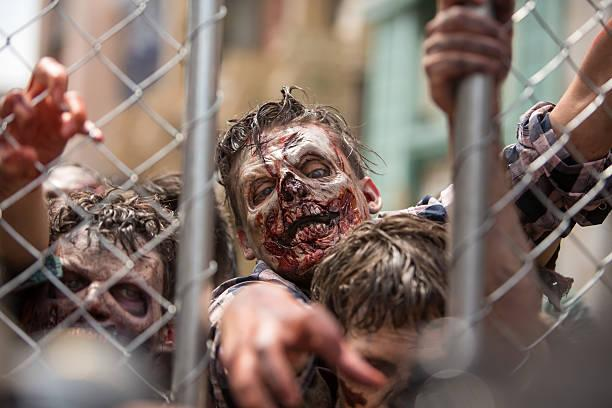Zombie: (208, 112, 404, 270), (48, 193, 164, 364)
